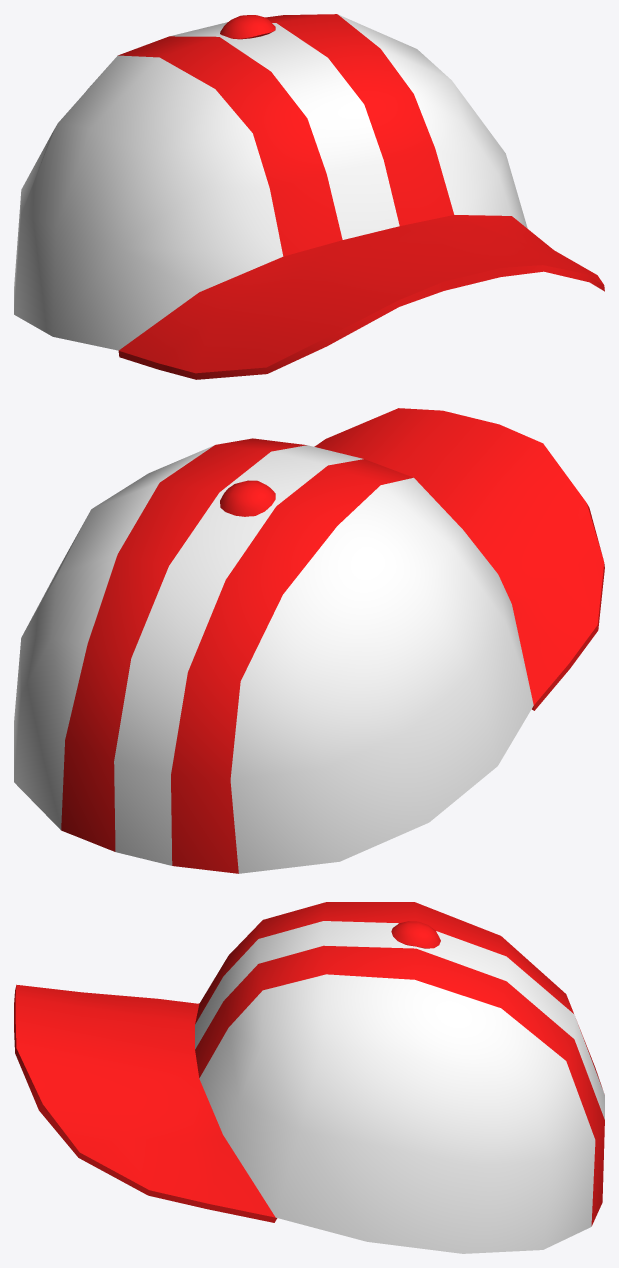
Rendered from Hat_Cap.fbx.
3 views of the same model, one above another, from view 1: azimuth 30°, elevation 25°; view 2: azimuth 150°, elevation 25°; view 3: azimuth 270°, elevation 25° (orthographic). The views are drawn at different scales.
Visible parts, largest first — view 1: Hat_Cap.001; view 2: Hat_Cap.001; view 3: Hat_Cap.001.
Part boxes in pixels (bbox=[...]): Hat_Cap.001: bbox=[14, 14, 604, 379]; Hat_Cap.001: bbox=[14, 408, 604, 873]; Hat_Cap.001: bbox=[14, 902, 604, 1253].
Bounding box in the file's own units: 30.42 × 19.4 × 39.02.
